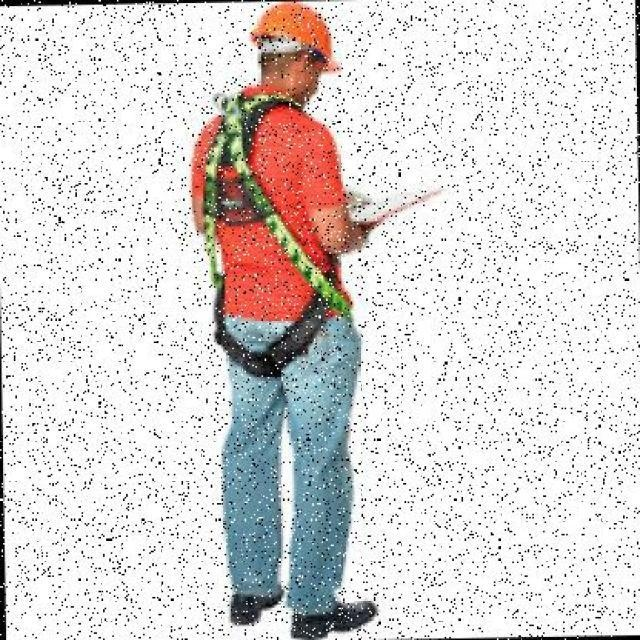Arnes_seguridad: (189, 83, 357, 379)
